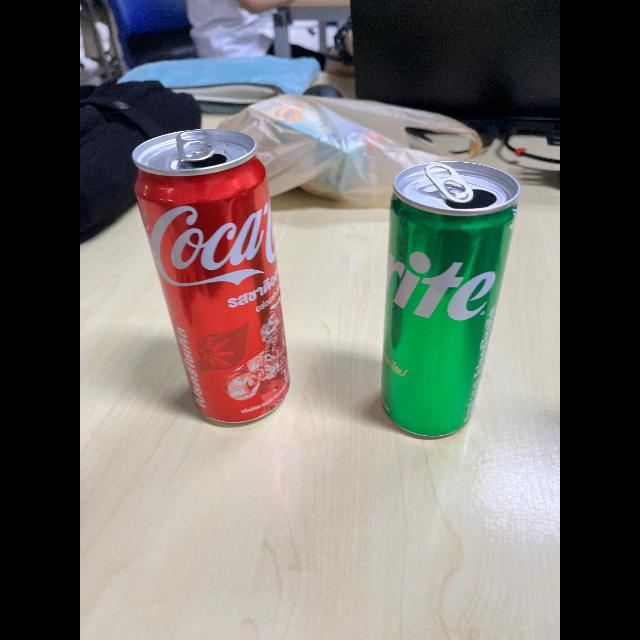can: (124, 127, 310, 433), (358, 160, 528, 436)
